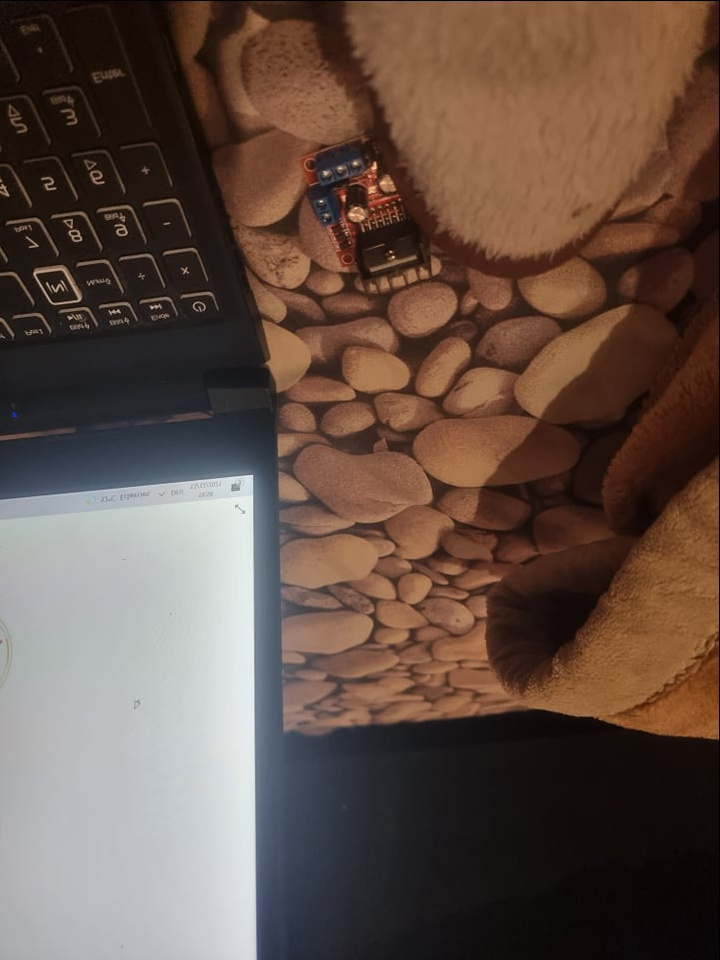MOTOR: (297, 138, 438, 293)
